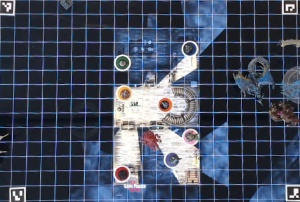blue: (180, 39, 198, 56)
green: (113, 53, 133, 71)
orange: (156, 96, 175, 112)
pink: (182, 126, 200, 144)
red: (113, 164, 131, 184)
violet: (162, 150, 180, 167)
yellow: (116, 84, 133, 101)
